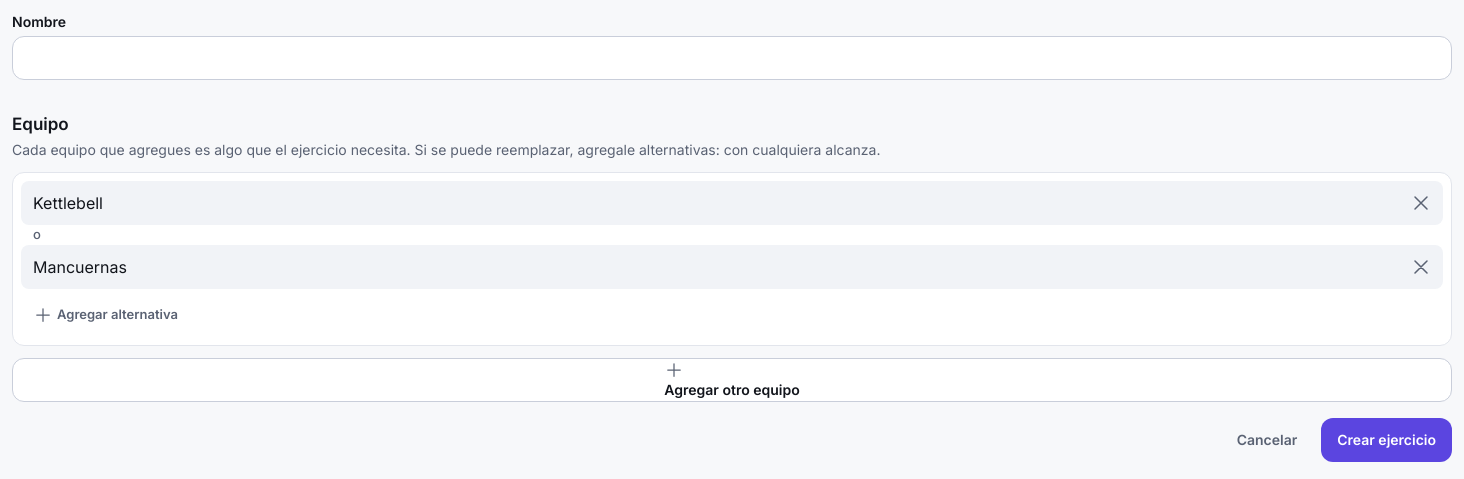
Test: ExerciseForm › quitar una alternativa de un grupo con dos elementos no borra el grupo
Click the button named "Quitar Kettlebell": (1421, 203) left=1399, top=181, right=1443, bottom=225
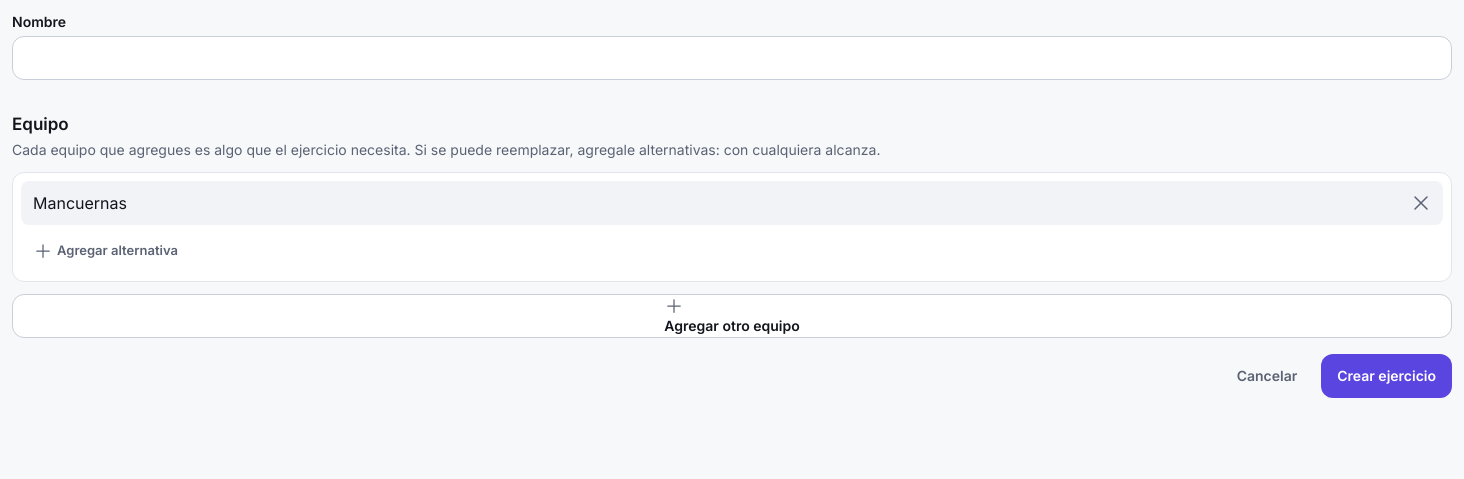
Expected: the text "Mancuernas" is shown, left=33, top=193, right=127, bottom=213
Expected: the text "Kettlebell" is gone
